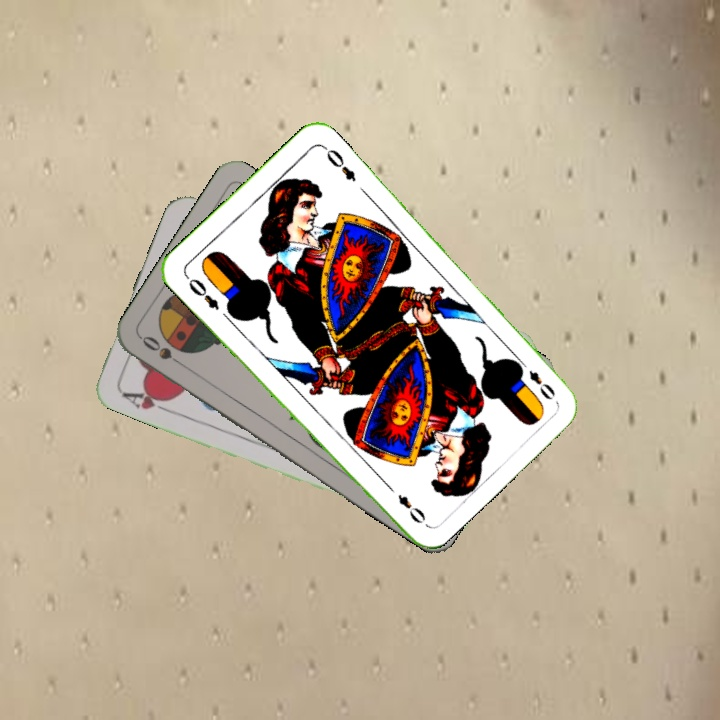EO: (513, 355, 558, 403), (181, 271, 222, 313)
HA: (118, 385, 174, 416)
SO: (137, 331, 190, 371)
